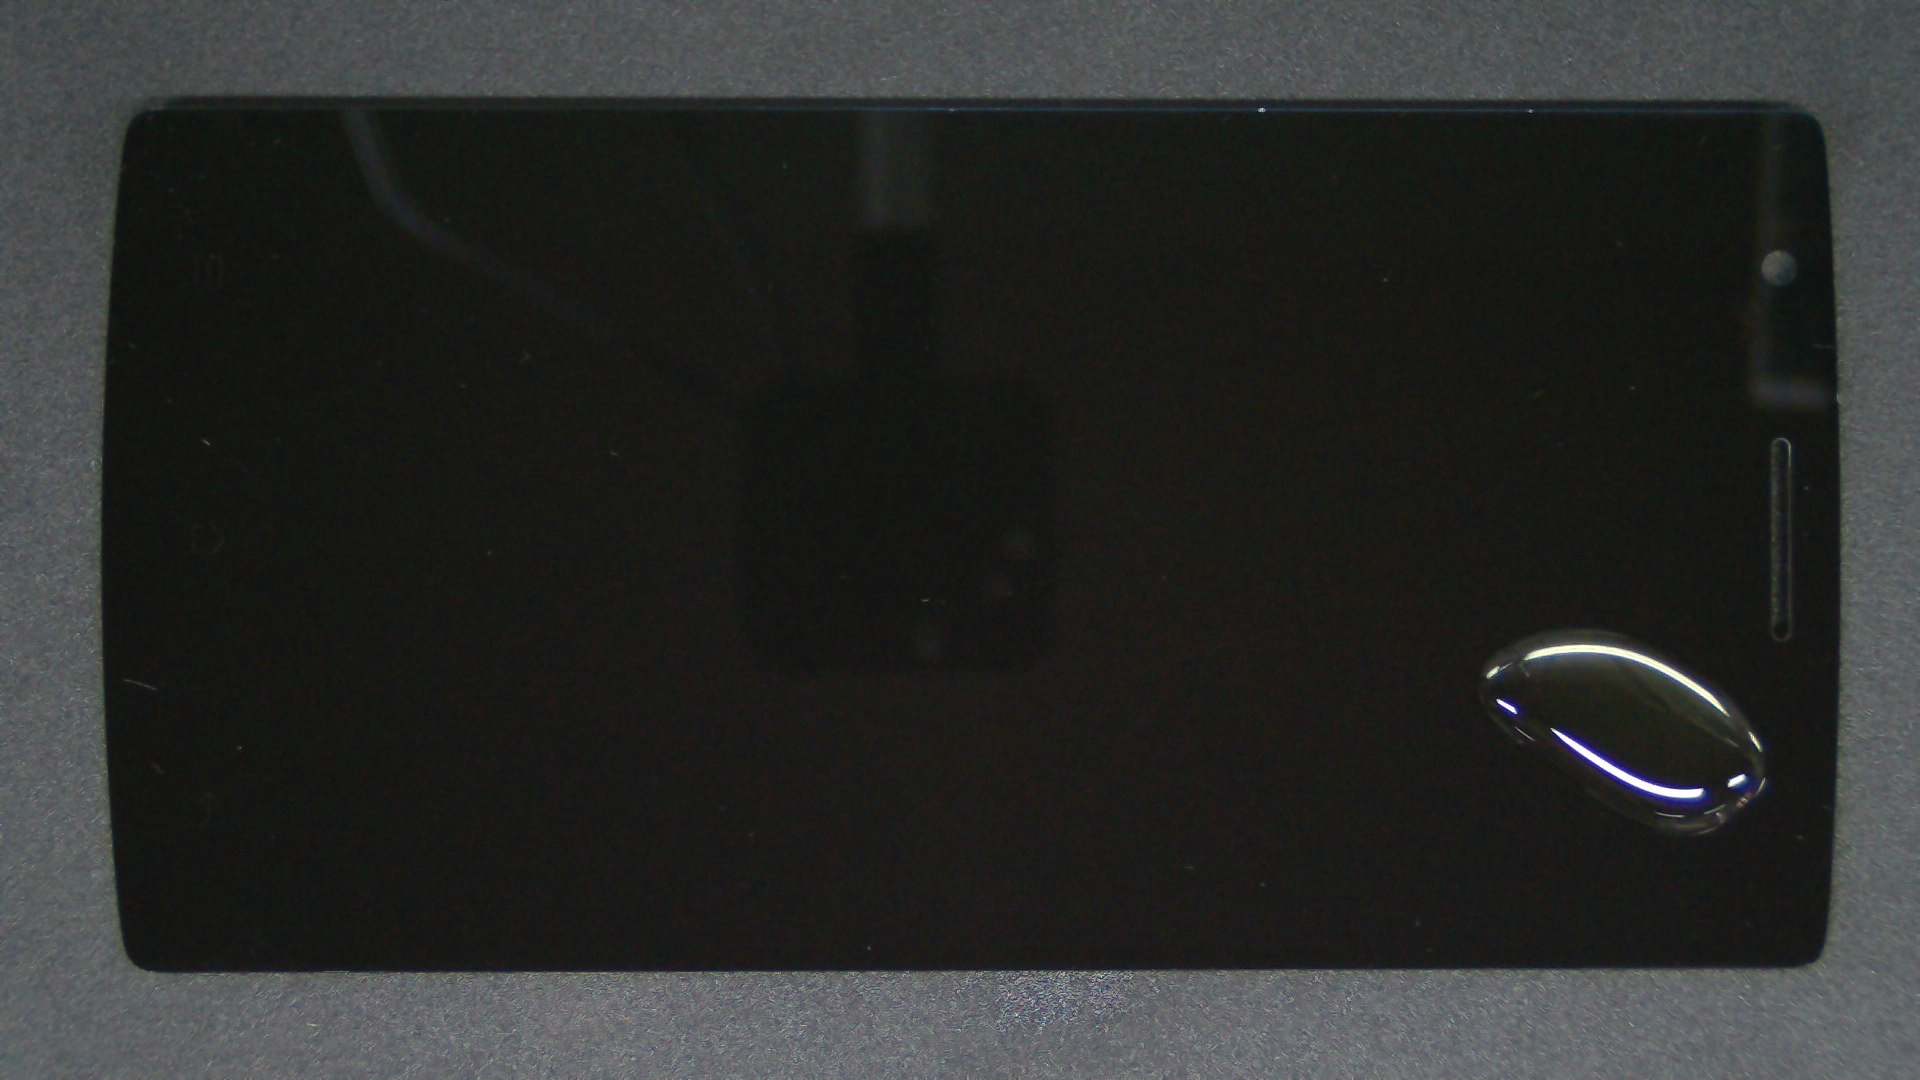defect: (1476, 626, 1767, 833)
